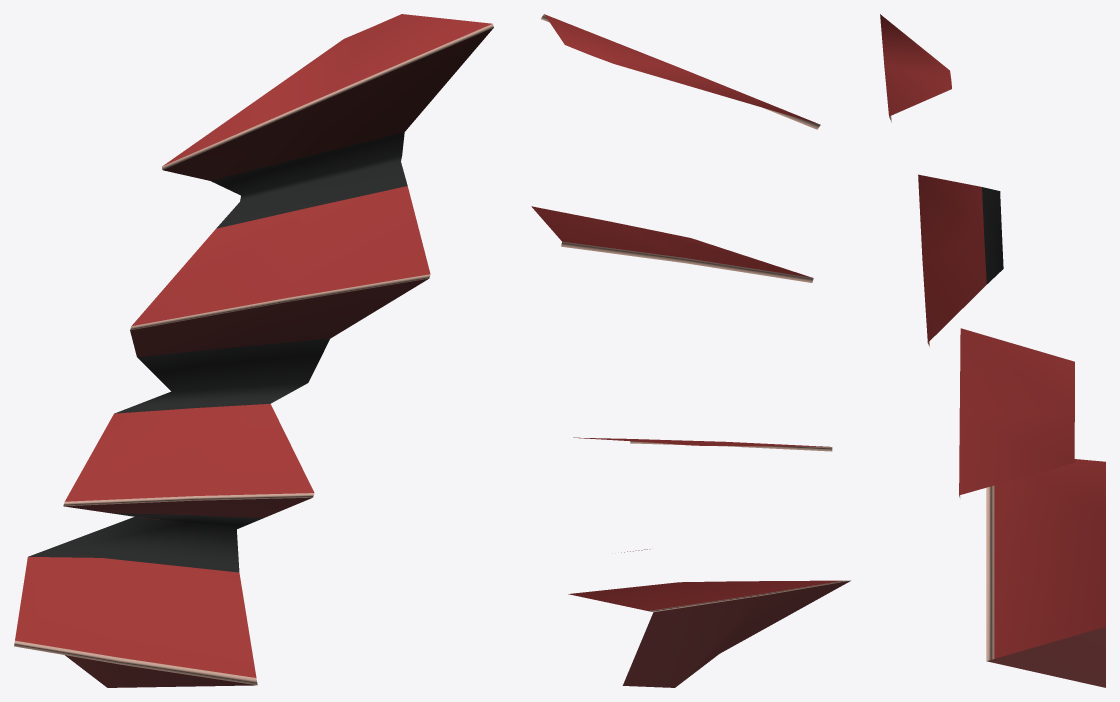
Rendered from redStairs.fbx.
3 renders of one model, left to right at view 1: azimuth 30°, elevation 25°; view 2: azimuth 150°, elevation 25°; view 3: azimuth 270°, elevation 25°, orthographic. The views are drawn at different scales.
Parts seen in each view (by area): view 1: pPlane1; view 2: pPlane1; view 3: pPlane1.
Part boxes in pixels (x1,y1,x2,y2): pPlane1: (14, 14, 493, 687); pPlane1: (531, 14, 850, 687); pPlane1: (880, 14, 1105, 687).
Size of the model in its own units: 2.07 by 3.18 by 0.9724.
